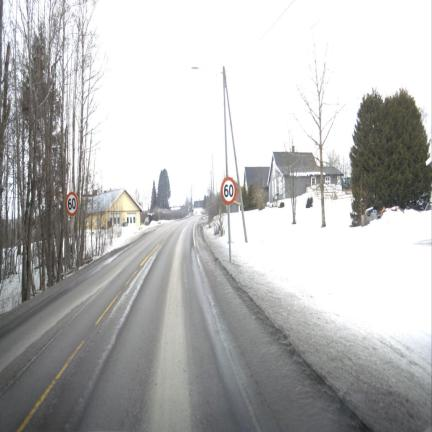Road: (0, 217, 363, 430)
